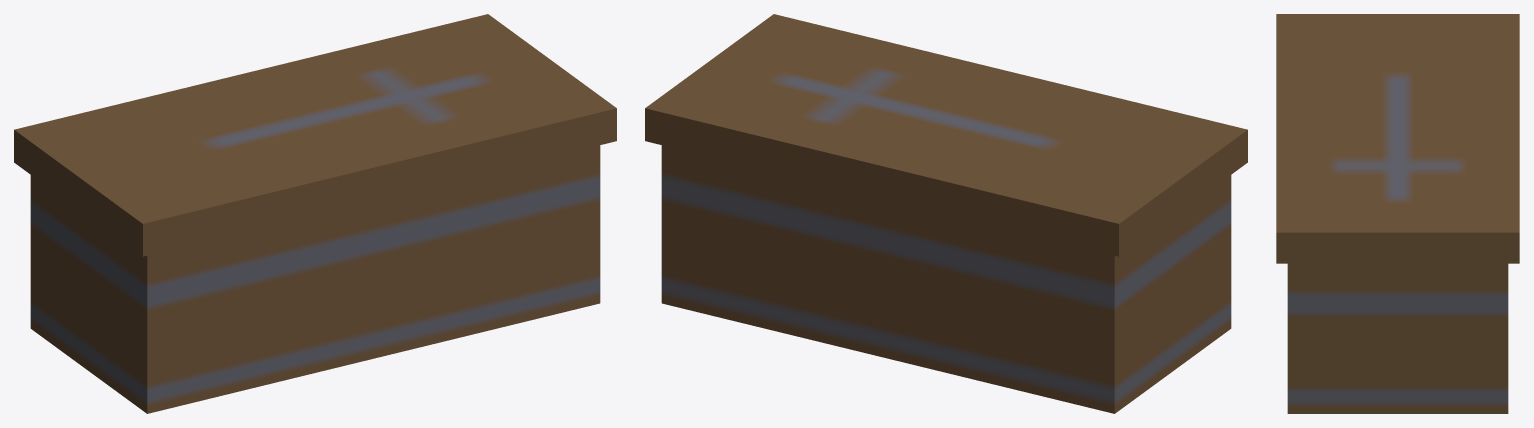
Rendered from prop_sarco_acfb.glb.
3 views of the same model, side by side, from view 1: azimuth 30°, elevation 25°; view 2: azimuth 150°, elevation 25°; view 3: azimuth 270°, elevation 25° (orthographic). The views are drawn at different scales.
Visible parts, largest first — view 1: prop_sarco_acfb; view 2: prop_sarco_acfb; view 3: prop_sarco_acfb.
Part boxes in pixels (x1,y1,x2,y2): prop_sarco_acfb: (14,14,616,413); prop_sarco_acfb: (645,14,1247,413); prop_sarco_acfb: (1276,14,1519,413).
Bounding box in the file's own units: 1.2 × 0.4773 × 0.5656.
Materials: 1 (1 with a texture image).
